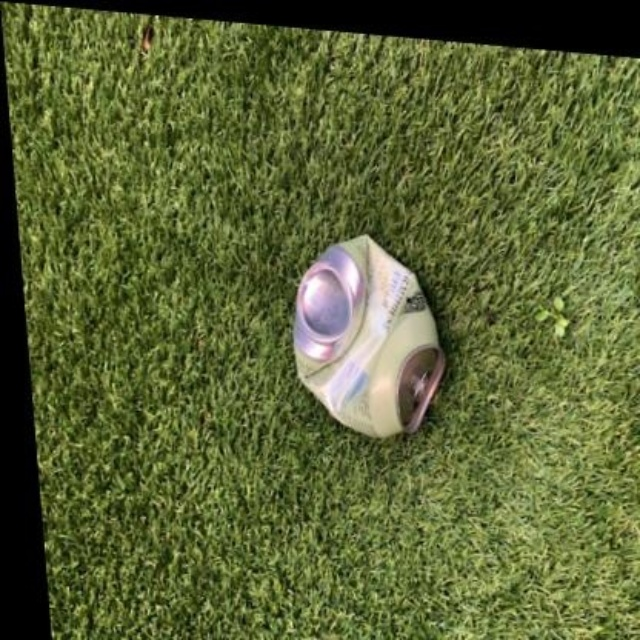trash: (294, 235, 443, 435)
